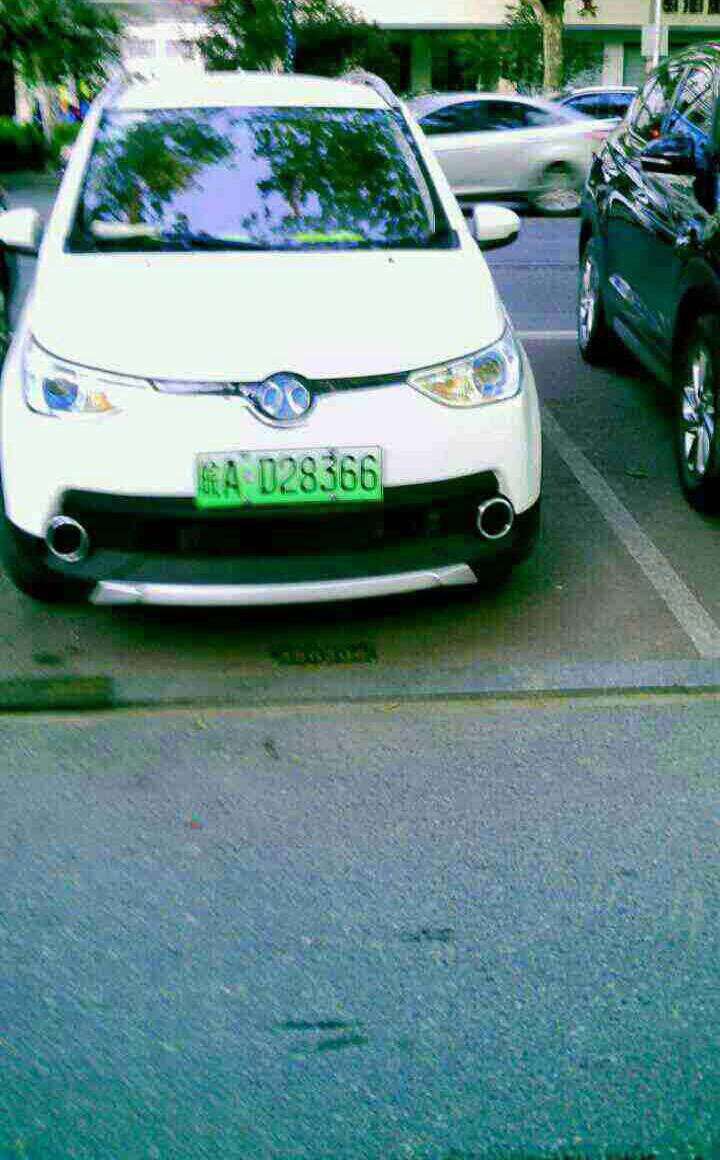car: (189, 448, 392, 509)
